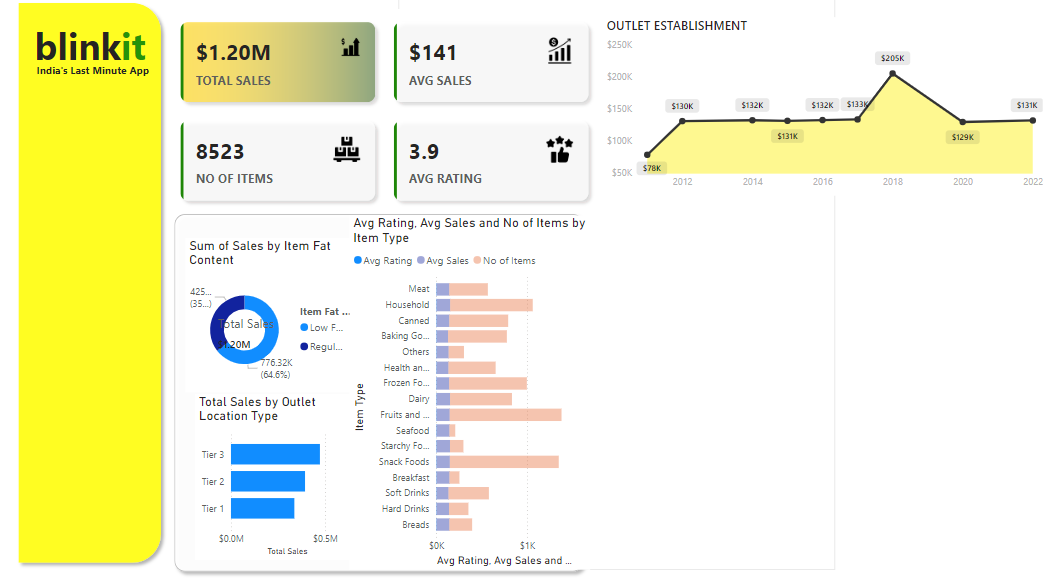

What the dashboard file says about the page in this screenshot:
{"tool":"powerbi","page":{"name":"Page 1","canvas":[1400,800],"ordinal":0},"visuals":[{"type":"shape","box":[25.6,0,204.7,751.2],"z":0},{"type":"textbox","box":[278.5,0,205,751],"z":1000},{"type":"textbox","box":[44.2,27.9,167.4,95.3],"z":2000},{"type":"textbox","box":[532.6,0,572.1,751.2],"z":3000},{"type":"textbox","box":[1115,0,285,751],"z":4000},{"type":"textbox","box":[53.5,83.7,176.7,39.5],"z":5000},{"type":"cardVisual","fields":{"Data":["BlinkIT Grocery Data.Total Sales","BlinkIT Grocery Data.Avg Sales","BlinkIT Grocery Data.No of Items","BlinkIT Grocery Data.Avg Rating"]},"box":[230.2,16.3,569.8,269.8],"z":6000},{"type":"shape","box":[230.2,276.7,553.5,486],"z":7000},{"type":"donutChart","fields":{"Y":["Sum(BlinkIT Grocery Data.Sales)"],"Category":["BlinkIT Grocery Data.Item Fat Content"]},"box":[253.2,317,229.8,202.1],"z":8000},{"type":"cardVisual","fields":{"Data":["BlinkIT Grocery Data.Total Sales"]},"box":[278.7,400,119.1,76.6],"z":9000},{"type":"clusteredBarChart","fields":{"Category":["BlinkIT Grocery Data.Outlet Location Type"],"Y":["BlinkIT Grocery Data.Total Sales"]},"box":[266,521.3,217,217],"z":10000},{"type":"barChart","fields":{"Category":["BlinkIT Grocery Data.Item Type"],"Y":["BlinkIT Grocery Data.Avg Rating","BlinkIT Grocery Data.Avg Sales","BlinkIT Grocery Data.No of Items"]},"box":[468.1,287.2,314.9,463.8],"z":10001}]}

Visuals, with their boxes on the page's 1400x800 design canvas (x1, y1, x2, y2). These are canvas units, not pixel positions in the 1054x578 screenshot, which may show the page scaled, cropped or inside an application window:
shape: crop(26, 0, 230, 751)
textbox: crop(278, 0, 484, 751)
textbox: crop(44, 28, 212, 123)
textbox: crop(533, 0, 1105, 751)
textbox: crop(1115, 0, 1400, 751)
textbox: crop(54, 84, 230, 123)
cardVisual - BlinkIT Grocery Data.Total Sales x BlinkIT Grocery Data.Avg Sales: crop(230, 16, 800, 286)
shape: crop(230, 277, 784, 763)
donutChart - Sum(BlinkIT Grocery Data.Sales) x BlinkIT Grocery Data.Item Fat Content: crop(253, 317, 483, 519)
cardVisual - BlinkIT Grocery Data.Total Sales: crop(279, 400, 398, 477)
clusteredBarChart - BlinkIT Grocery Data.Outlet Location Type x BlinkIT Grocery Data.Total Sales: crop(266, 521, 483, 738)
barChart - BlinkIT Grocery Data.Item Type x BlinkIT Grocery Data.Avg Rating: crop(468, 287, 783, 751)
